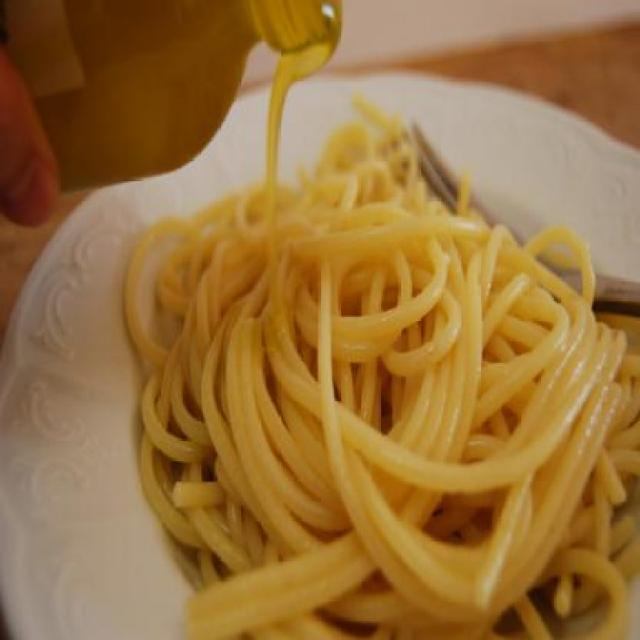Oil pasta: (98, 72, 640, 638)
